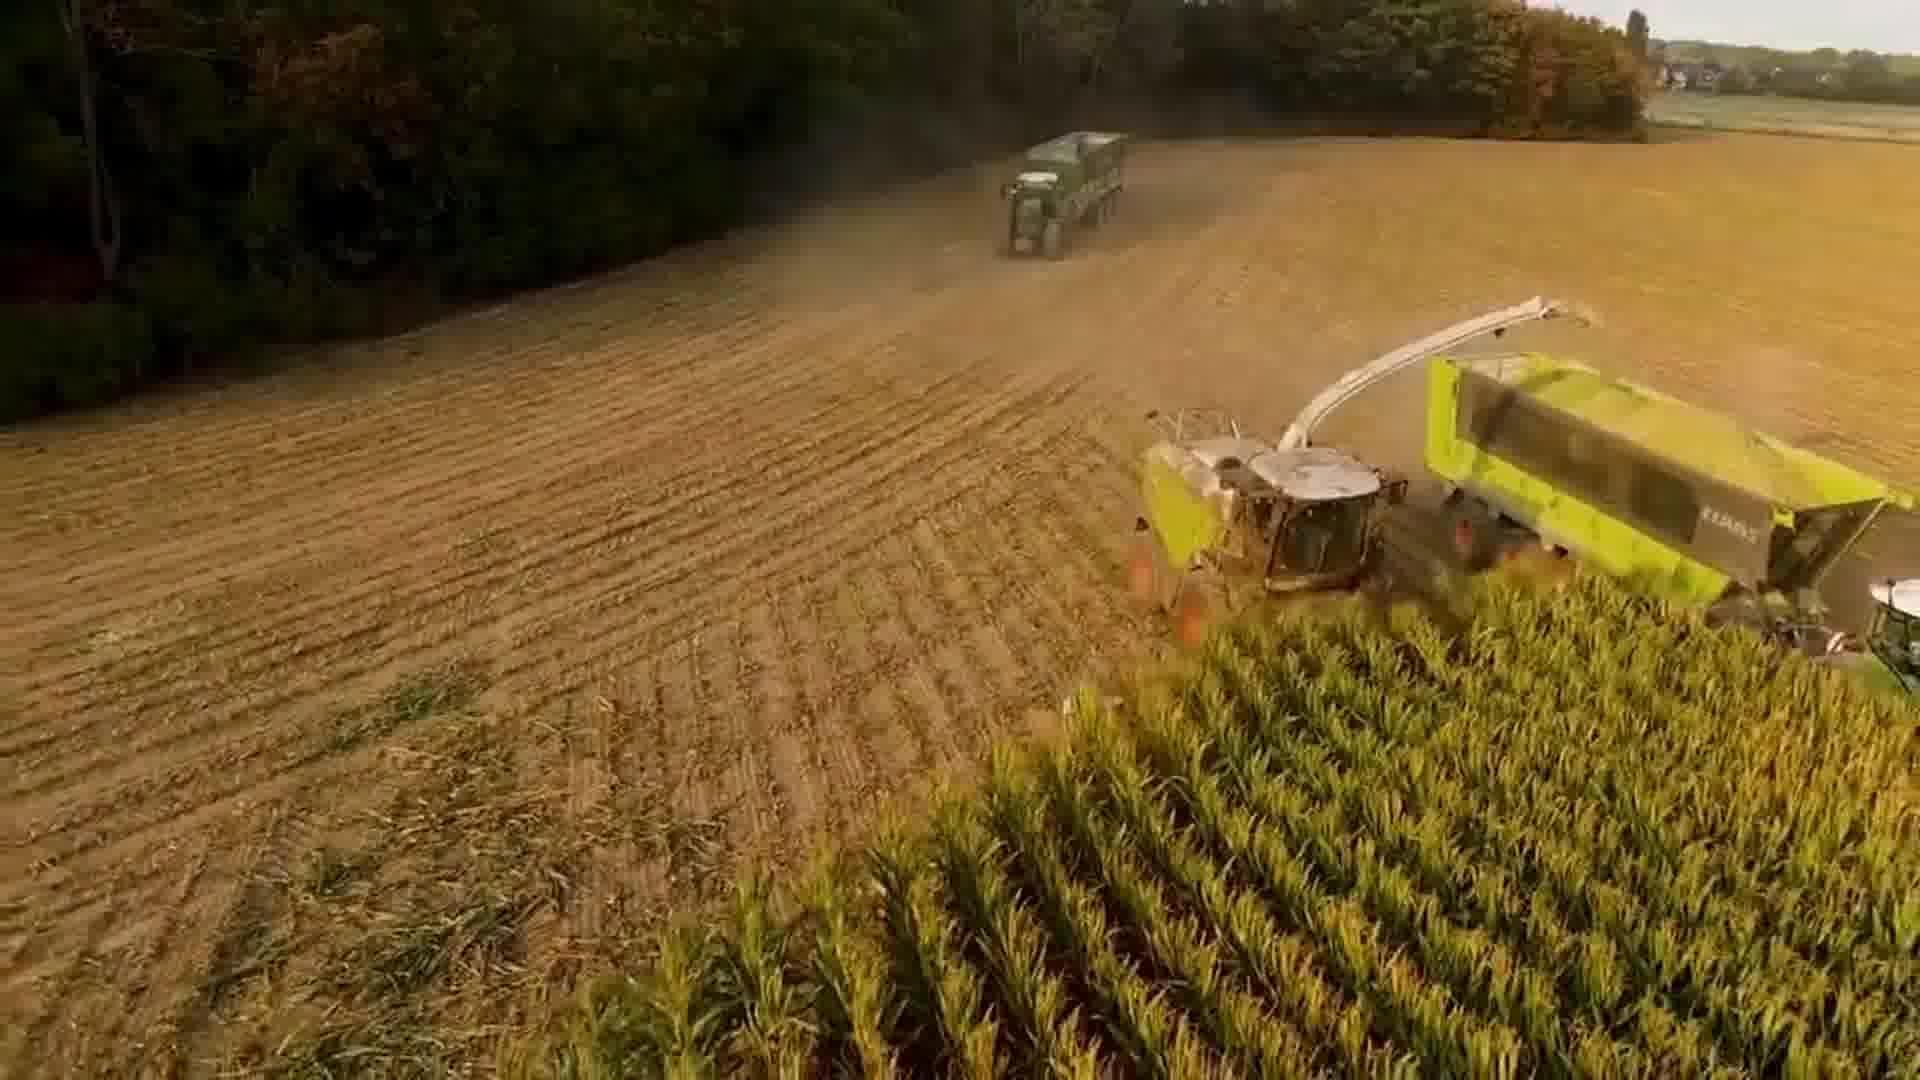combine harvester: (1116, 289, 1588, 669)
tractor: (1811, 566, 1920, 723), (993, 167, 1075, 269)
trailer: (1408, 332, 1920, 665), (1022, 120, 1142, 237)
